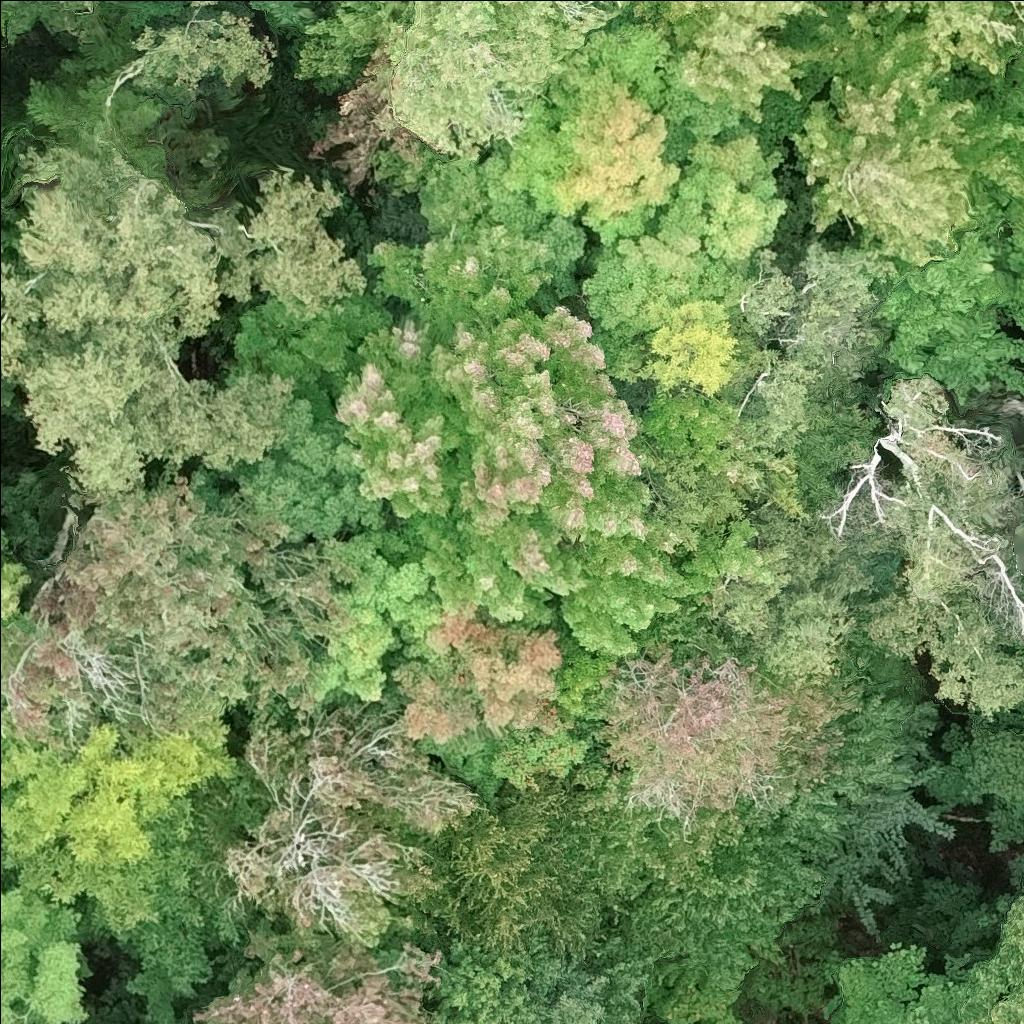crown: (326, 221, 706, 663), (0, 141, 367, 505), (1, 463, 360, 753), (416, 14, 744, 302), (0, 713, 240, 1023), (218, 699, 486, 947), (789, 0, 1023, 265), (581, 129, 790, 343), (596, 645, 848, 810), (589, 826, 835, 991), (379, 0, 631, 161), (699, 504, 882, 691), (428, 778, 609, 965), (738, 239, 900, 447), (874, 212, 1023, 406), (301, 528, 451, 707), (218, 392, 391, 546), (628, 0, 842, 123), (850, 588, 1023, 722), (190, 936, 446, 1023), (602, 276, 771, 401), (816, 938, 977, 1023), (425, 931, 571, 1023), (925, 715, 1023, 852), (0, 877, 91, 1023), (856, 0, 1006, 74), (535, 950, 663, 1023), (963, 882, 1023, 1023), (997, 212, 1023, 330), (0, 529, 32, 623), (26, 0, 101, 25)
